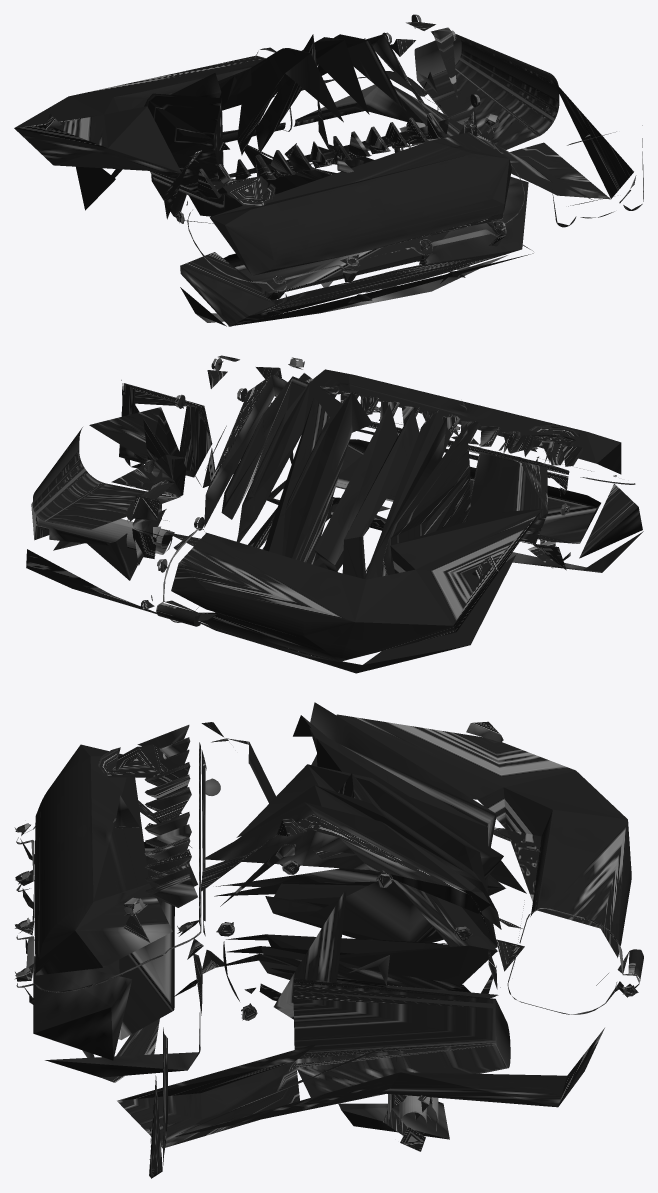
Rendered from engineComponent_supercharger_c01.glb.
3 renders of one model, top to bottom at view 1: azimuth 30°, elevation 25°; view 2: azimuth 150°, elevation 25°; view 3: azimuth 270°, elevation 25°, orthographic. The views are drawn at different scales.
Visible parts, largest first — view 1: geometry_0; view 2: geometry_0; view 3: geometry_0.
Boxes of the visible parts, x1,y1,x2,y2 form: geometry_0: (14,14,643,326); geometry_0: (26,355,643,673); geometry_0: (14,702,643,1178).
Bounding box in the file's own units: 0.42 × 0.1579 × 0.3574.
1 material, 1 textured.
